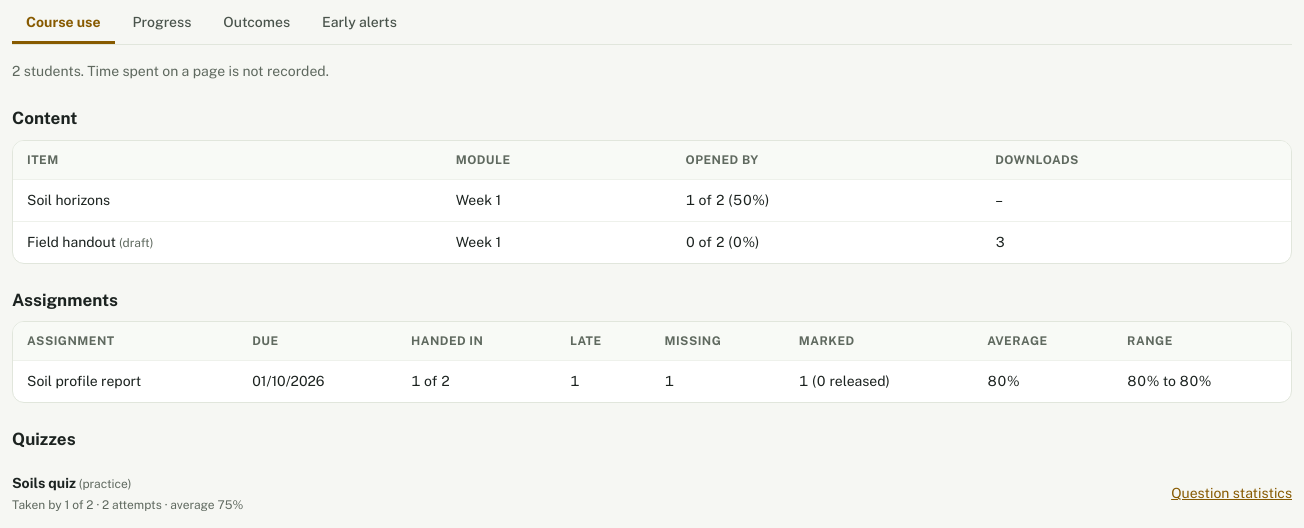
the Insights tab (items 6.01, 6.02, 6.05) › moves between its parts by address
Expected: the element named "Content" is shown, [12, 140, 1292, 264]
What coordinates should you click on to do the following:
click the link "Progress"
I would click on:
 (162, 22)
Its box is [133, 14, 191, 30].
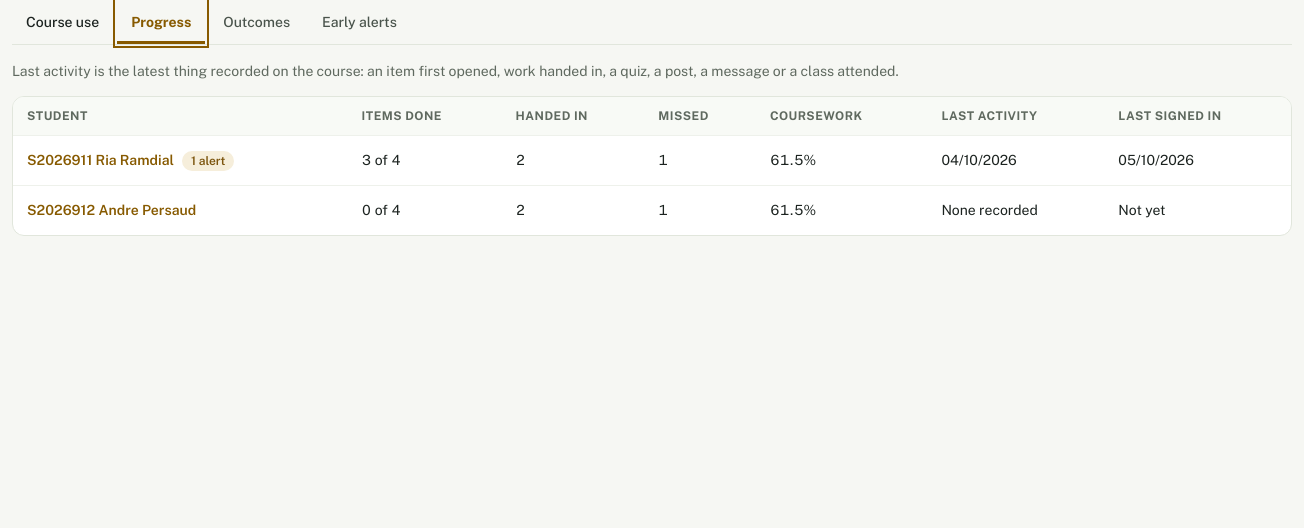
Now the element named "Progress of each student" is shown, box [12, 96, 1292, 236]
